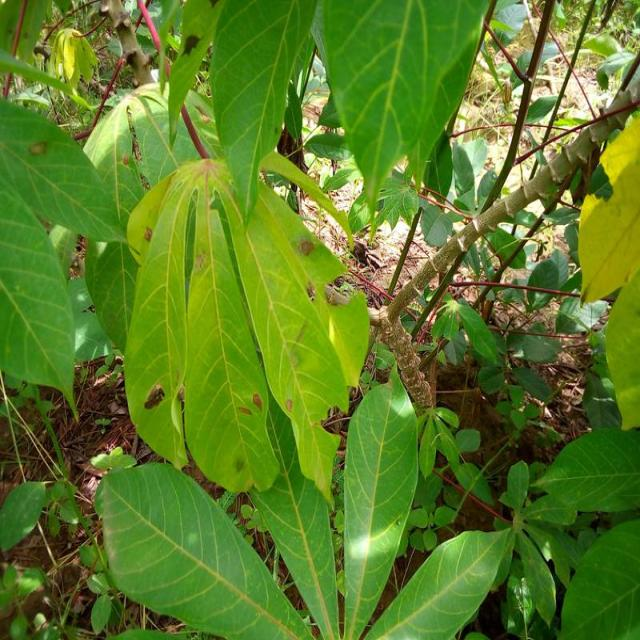cassava leaf: (122, 155, 359, 506), (95, 460, 315, 638), (312, 0, 493, 215), (343, 361, 420, 638), (578, 108, 640, 306)
